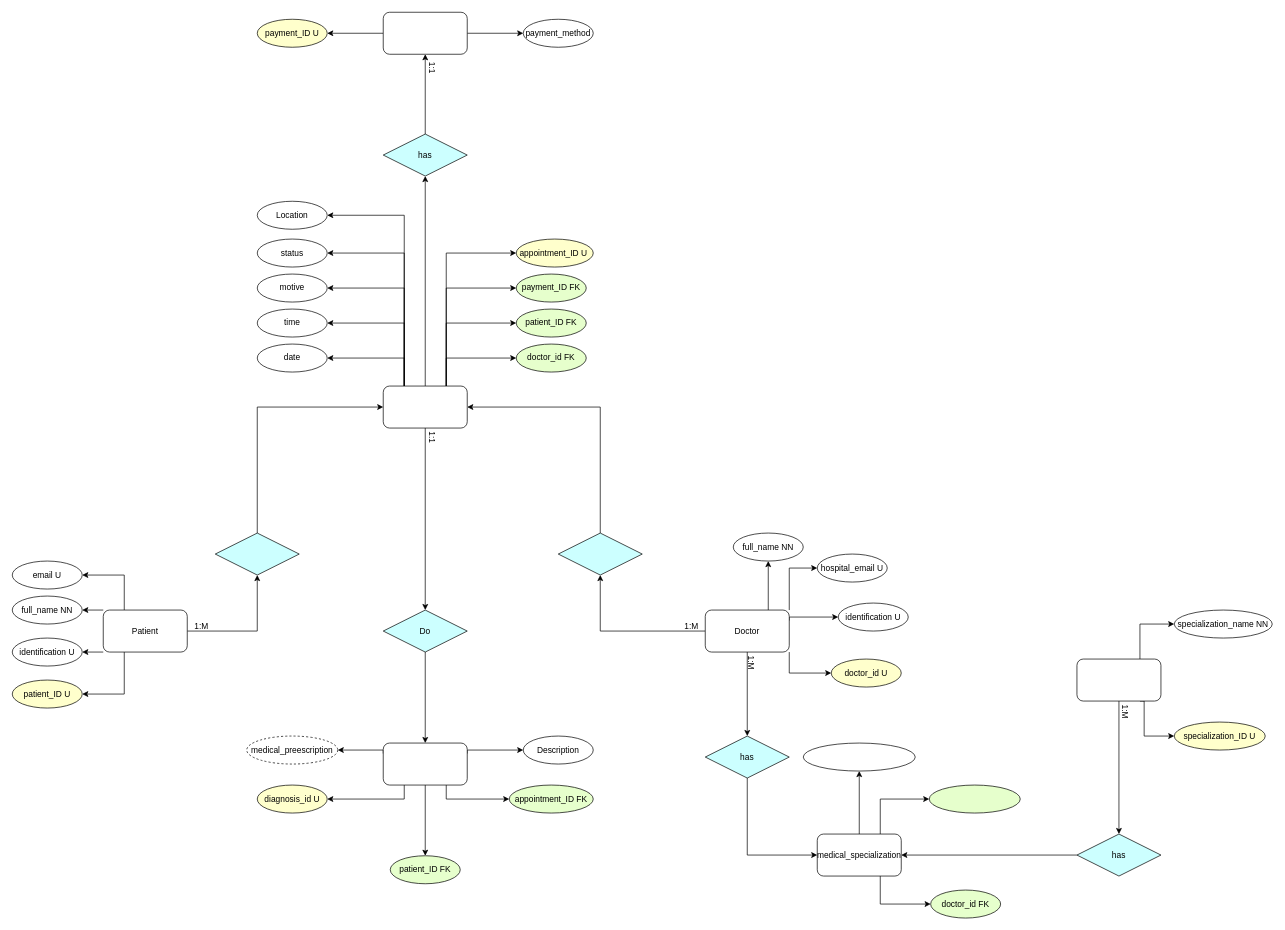
This 1285x930 diagram has some shape labels left out. The box of each missing label's shape, as (x1, y1, x2, y2) in pixels:
Diagnosis: (383, 742, 467, 785)
medical appointment: (383, 385, 467, 428)
medical_specialization_ID: (803, 742, 915, 771)
payment: (383, 12, 467, 54)
performs: (558, 532, 642, 575)
request: (215, 532, 299, 575)
specialization: (1076, 658, 1161, 701)
specialization_ID FK: (929, 784, 1020, 813)
